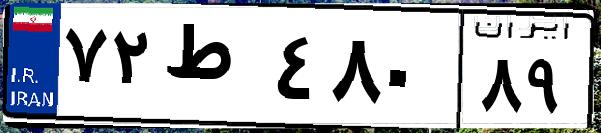0: (385, 28, 445, 110)
2: (110, 28, 158, 98)
4: (270, 28, 330, 110)
7: (57, 26, 110, 100)
8: (330, 28, 385, 110), (475, 38, 525, 113)
9: (525, 38, 570, 115)
ط: (158, 20, 270, 120)
